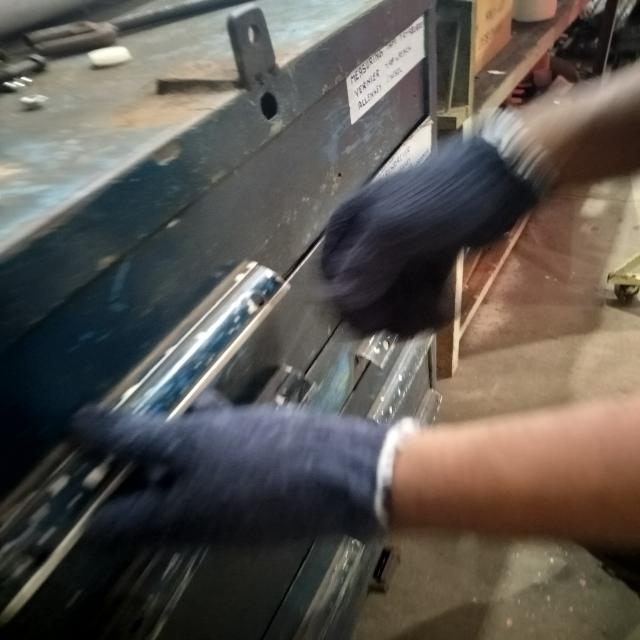Gloves-Detection: (79, 392, 400, 532), (325, 120, 514, 328)
